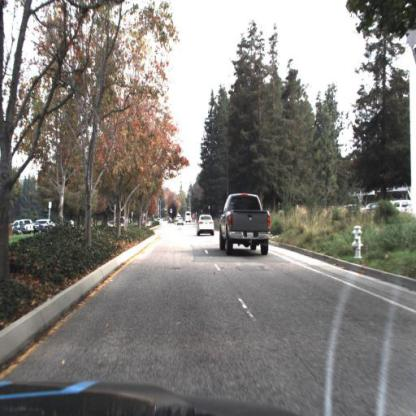car: (219, 192, 271, 256), (197, 213, 216, 241), (35, 218, 53, 233)
